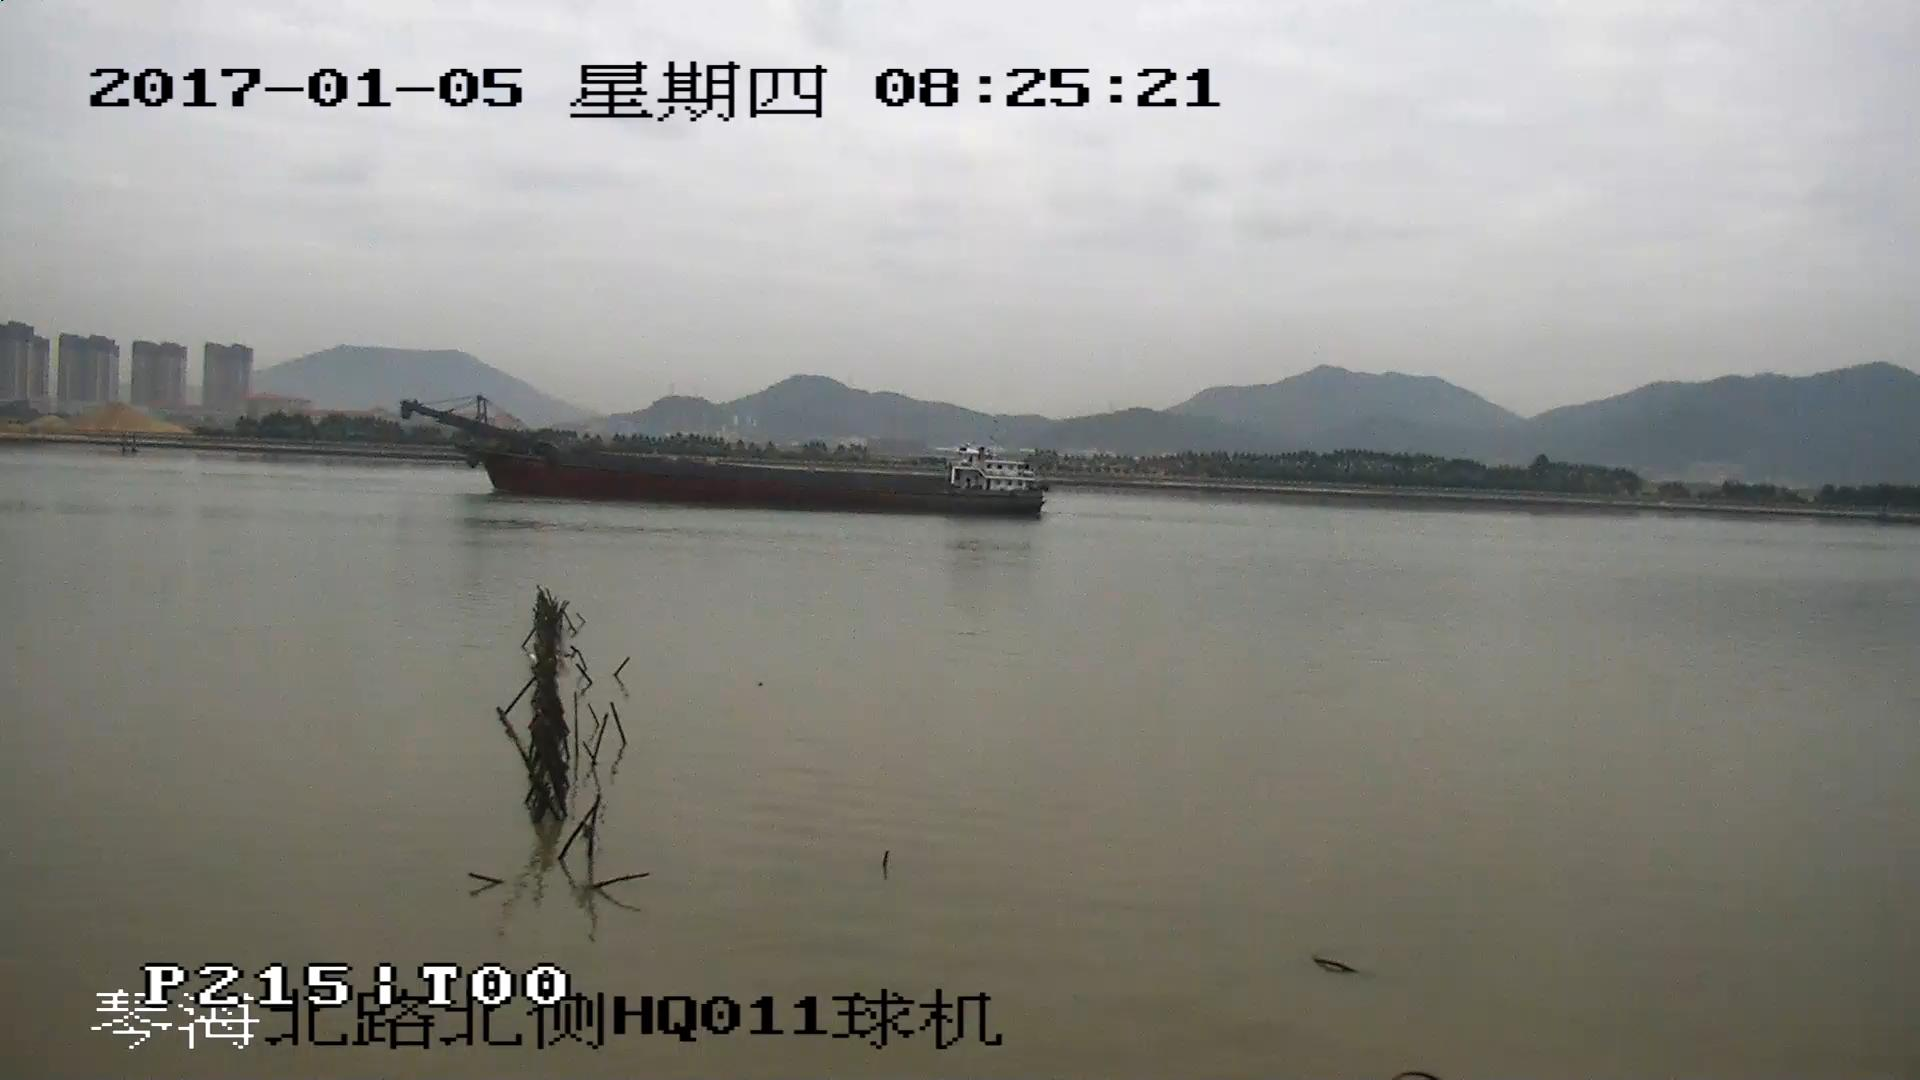bulk cargo carrier: (401, 396, 1043, 517)
